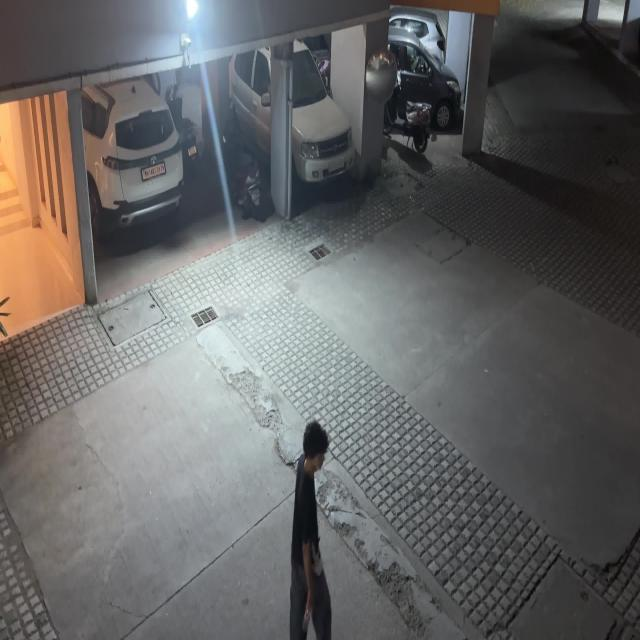garbage_dumping: (299, 586, 314, 631)
